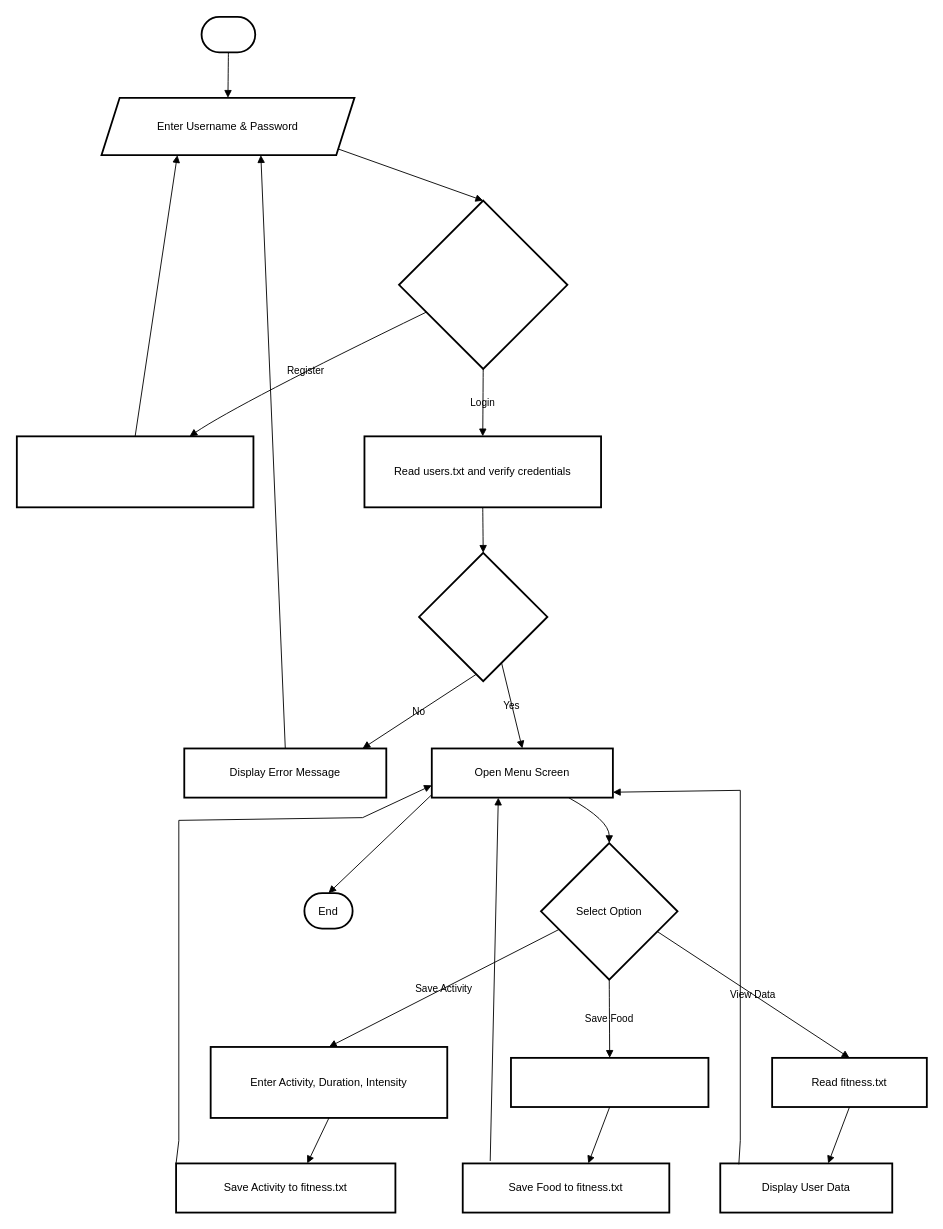
This 943x1229 diagram has some shape labels left out. Here are the shapes that lost their labels. From the top down, the centre of each, then its label:
At point 228,34: "Start".
At point 483,284: "Login or Register?".
At point 134,471: "Save Username & Password to users.txt".
At point 483,616: "Valid Login?".
At point 609,1082: "Enter Food & Calories".
